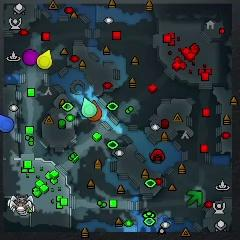p1: (0, 114, 14, 133)
p2: (81, 97, 97, 117)
p3: (22, 49, 40, 66)
p4: (38, 50, 52, 69)
p5: (89, 100, 103, 122)
x4: (186, 190, 202, 207)
